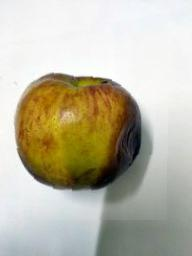Apple Semirotten: (6, 46, 169, 220)
